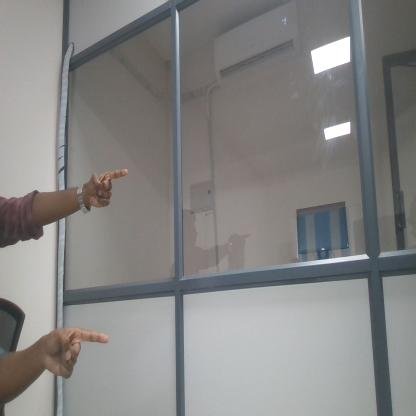Left: (79, 162, 131, 220)
